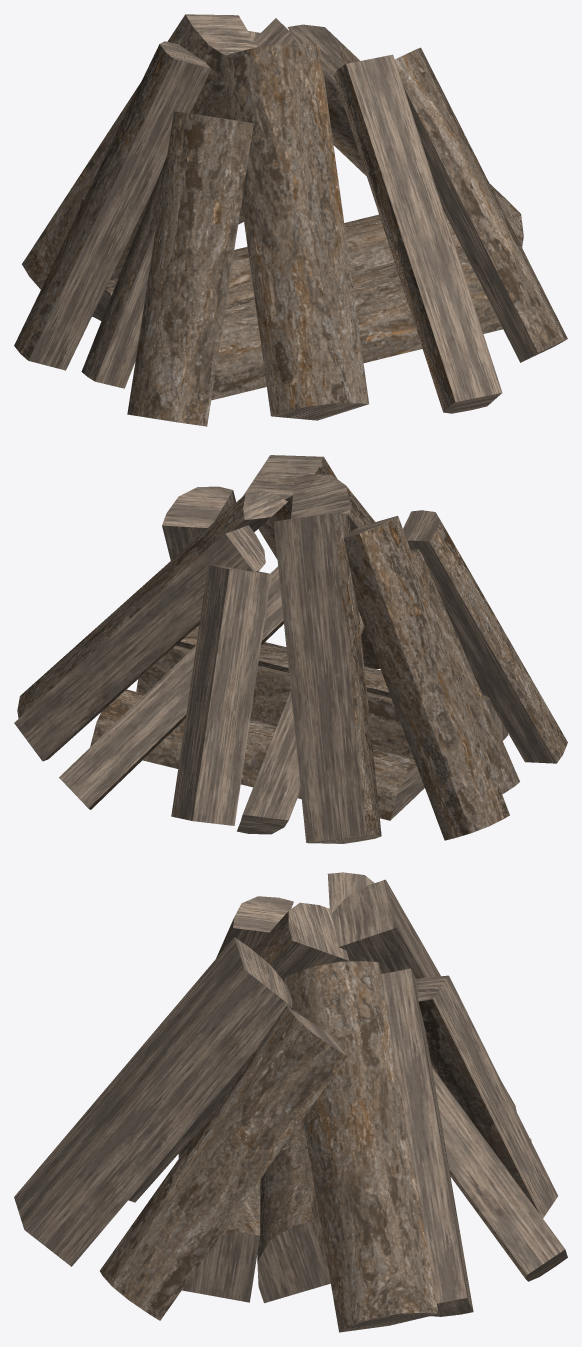
The model's file is SM_WoodFire_01.fbx.
3 views of the same model, one above another, from view 1: azimuth 30°, elevation 25°; view 2: azimuth 150°, elevation 25°; view 3: azimuth 270°, elevation 25° (orthographic). The views are drawn at different scales.
Visible parts, largest first — view 1: SM_WoodFire_01; view 2: SM_WoodFire_01; view 3: SM_WoodFire_01.
Boxes of the visible parts, x1,y1,x2,y2 form: SM_WoodFire_01: (14, 14, 567, 426); SM_WoodFire_01: (14, 455, 567, 843); SM_WoodFire_01: (14, 872, 567, 1332).
Size of the model in its own units: 49.63 by 30.01 by 47.06.
